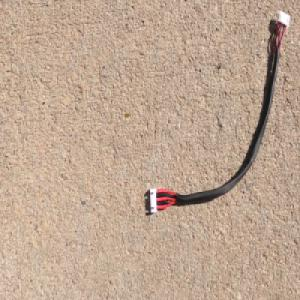Wire: (148, 9, 291, 216)
